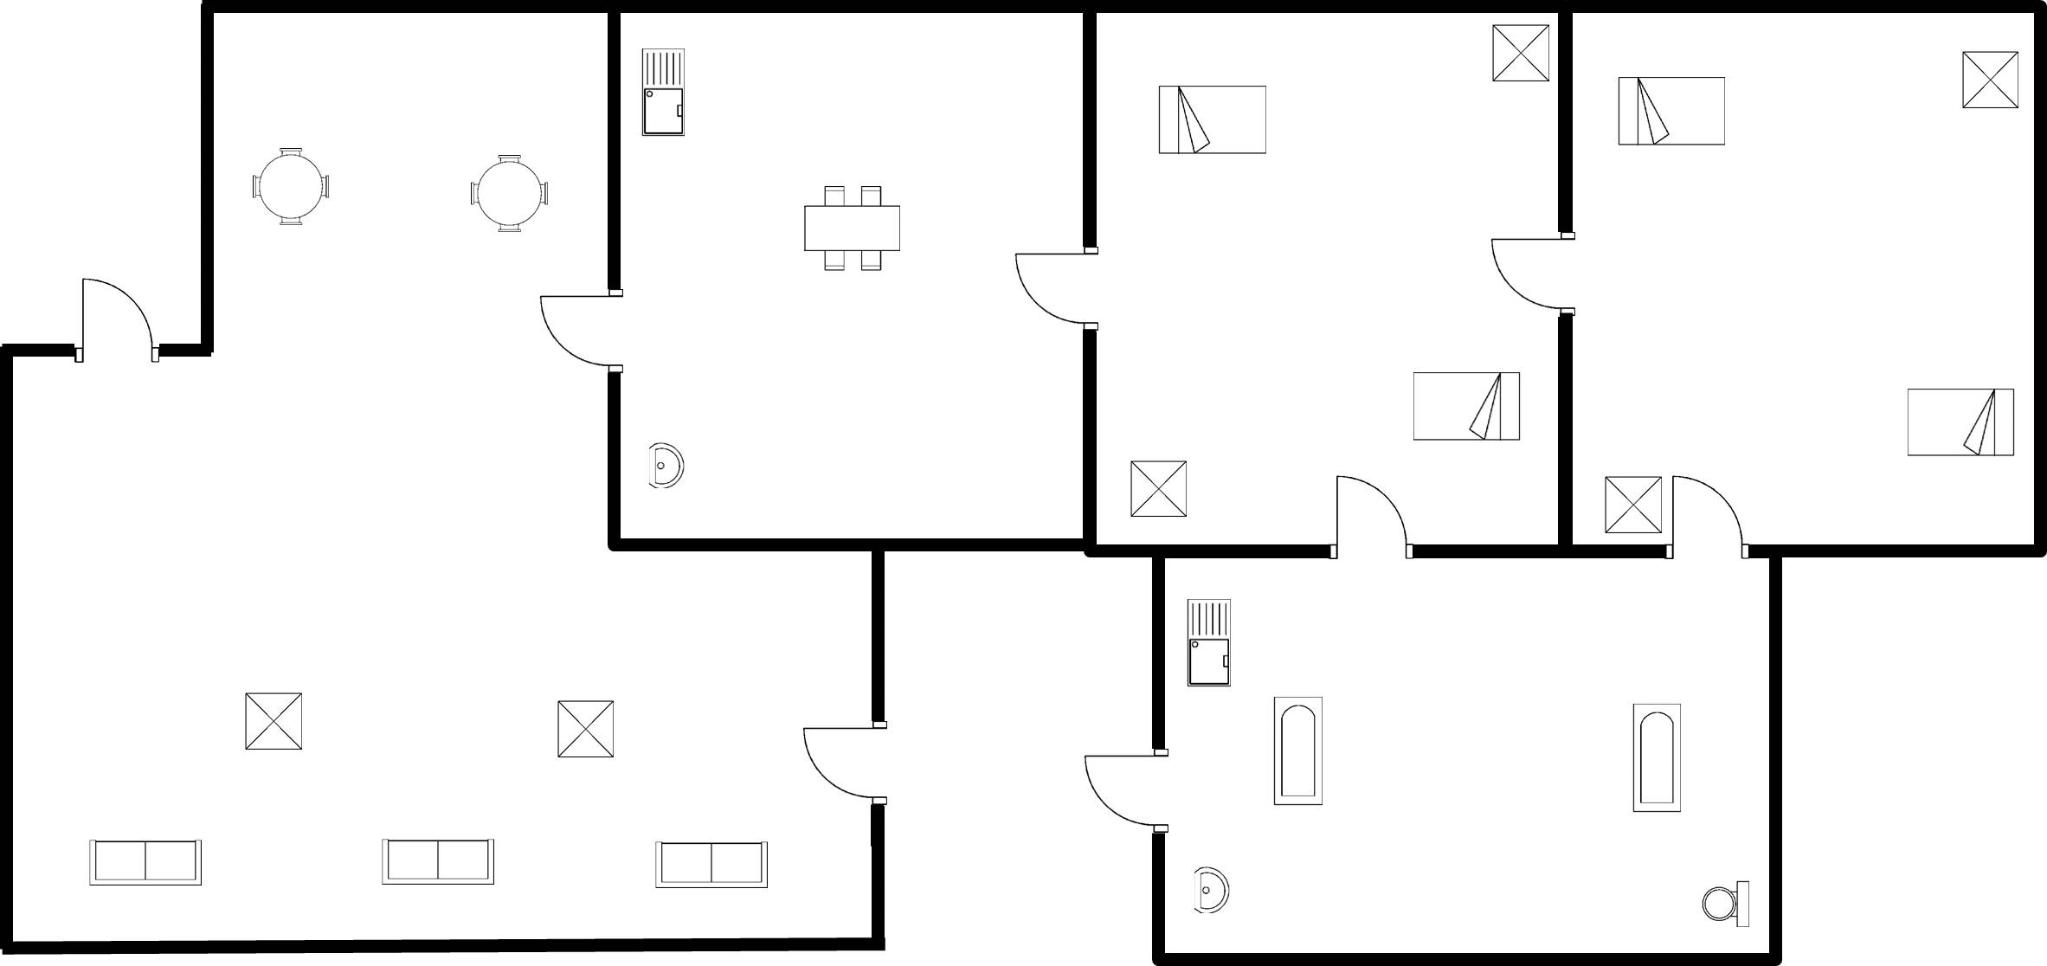bed: (1148, 74, 1281, 170), (1894, 372, 2022, 469), (1604, 67, 1735, 159), (1403, 362, 1533, 450)
dining_table: (791, 172, 911, 278)
round_table: (450, 141, 565, 249), (238, 137, 345, 239)
sink: (632, 35, 697, 145), (1175, 591, 1240, 698)
sofa: (368, 821, 508, 897), (76, 829, 218, 901), (642, 828, 779, 901)
toilet: (1691, 868, 1758, 940)
tub: (1624, 694, 1695, 825), (1265, 684, 1332, 815)
